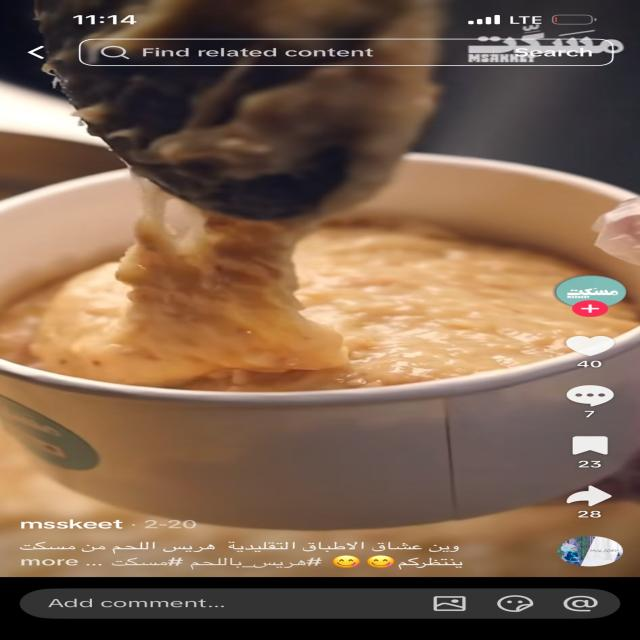Harees: (0, 165, 640, 399)
